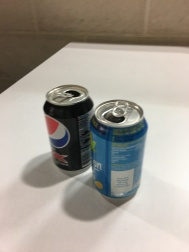can_black: (36, 80, 95, 179)
can_blue: (89, 98, 148, 209)
